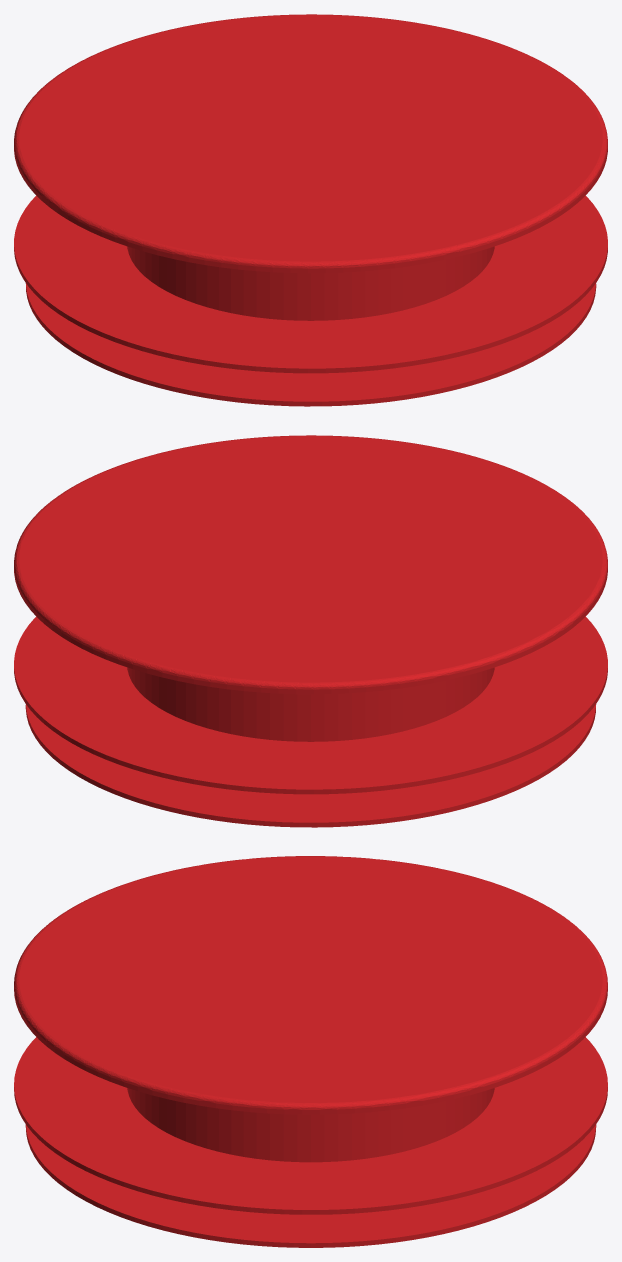
3 views of the same model, one above another, from view 1: azimuth 30°, elevation 25°; view 2: azimuth 150°, elevation 25°; view 3: azimuth 270°, elevation 25° (orthographic).
Visible parts, largest first — view 1: 10272923; view 2: 10272923; view 3: 10272923.
Boxes of the visible parts, box(x1,y1,x2,y2) form: 10272923: box(14, 14, 607, 406); 10272923: box(14, 435, 607, 827); 10272923: box(14, 856, 607, 1247).
Size of the model in its own units: 0.9996 by 0.3097 by 1.
